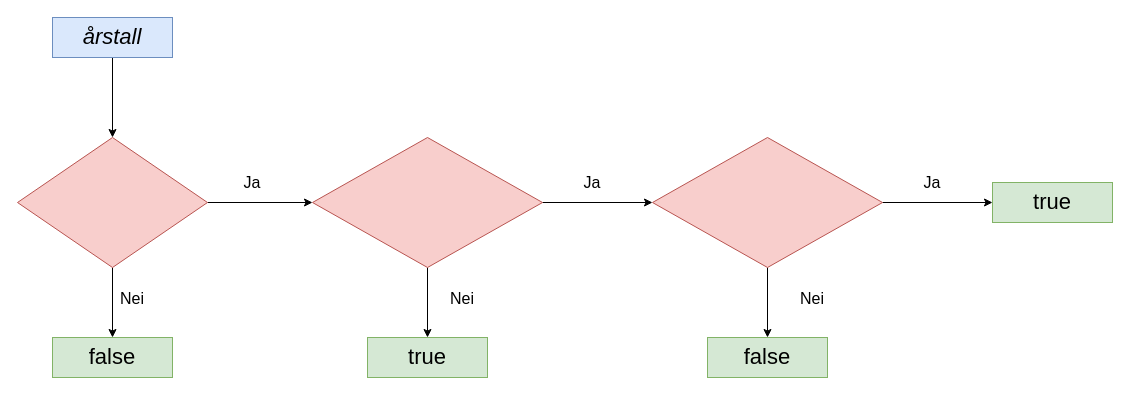
Image size: 1130x395. Some labels were removed from this diagram. The shapes that lost their labels are listed below. From the top down, each one's box as (x1, y1, x2, y2) in pixels, then its label:
(16, 136, 208, 268): er årstall delelig med 4?
(312, 136, 542, 268): er årstall delelig med 100?
(652, 136, 882, 268): er årstall delelig med 400?
